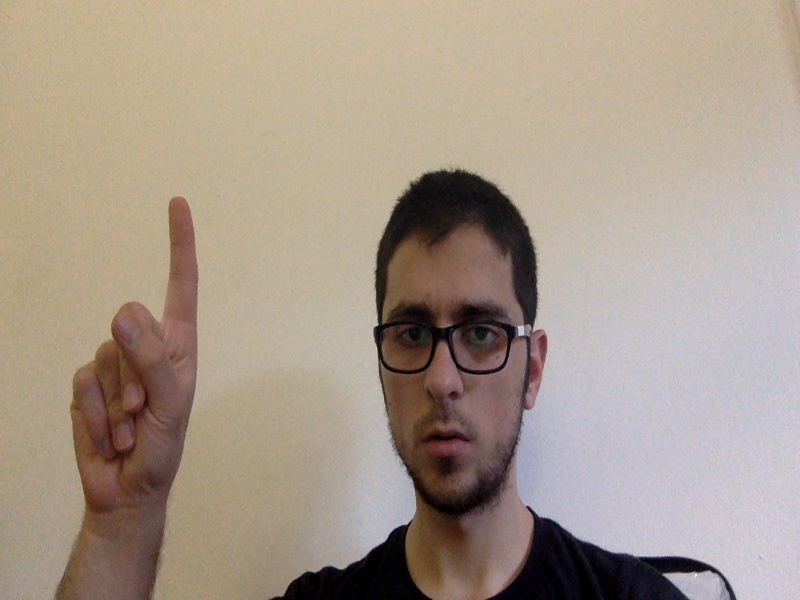1-hand: (73, 196, 198, 517)
